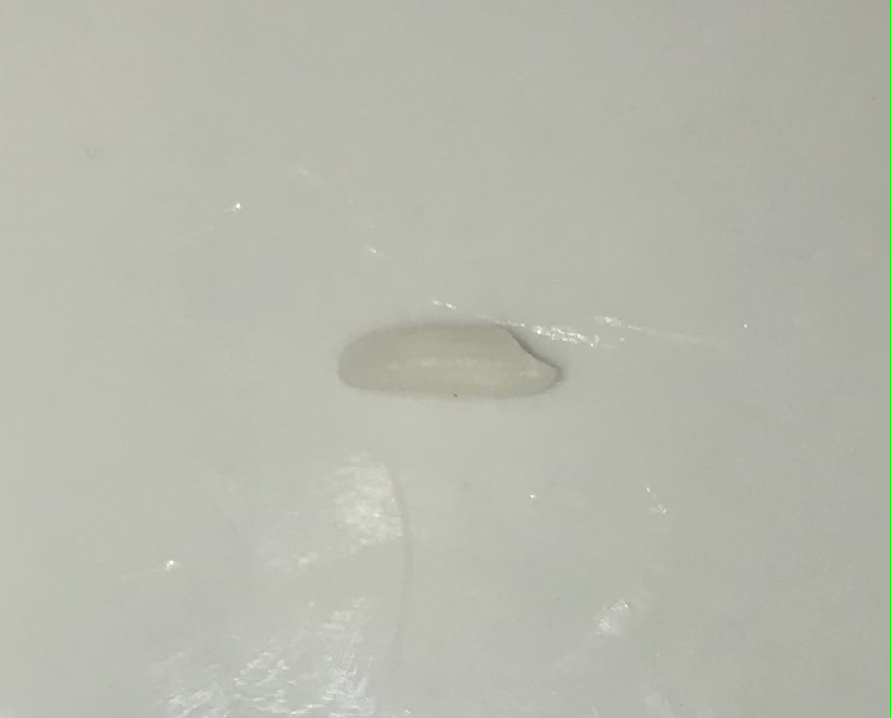Gao Thom Go Cong: (323, 291, 573, 422)
